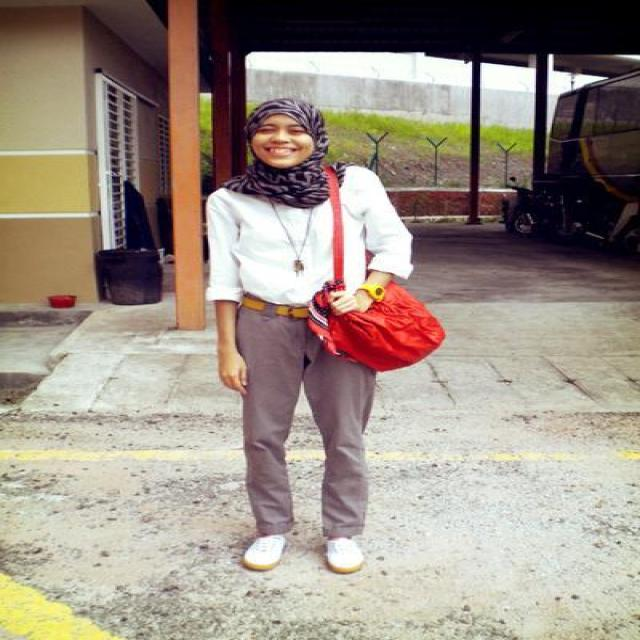bag: (306, 172, 440, 370)
shirt: (206, 166, 413, 319)
shoe: (245, 525, 365, 573)
